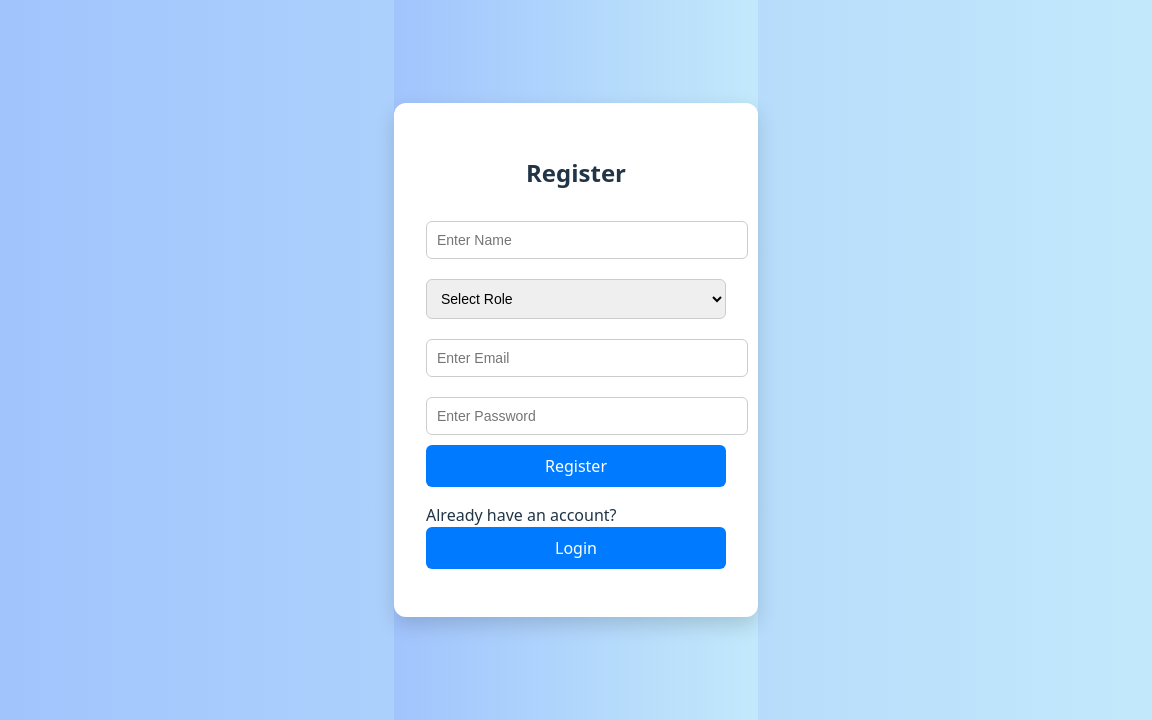
Register Component › submits form and shows success message
In the field with placeholder "Enter Name": (587, 240) [426,221,748,259], type "Bhavani"
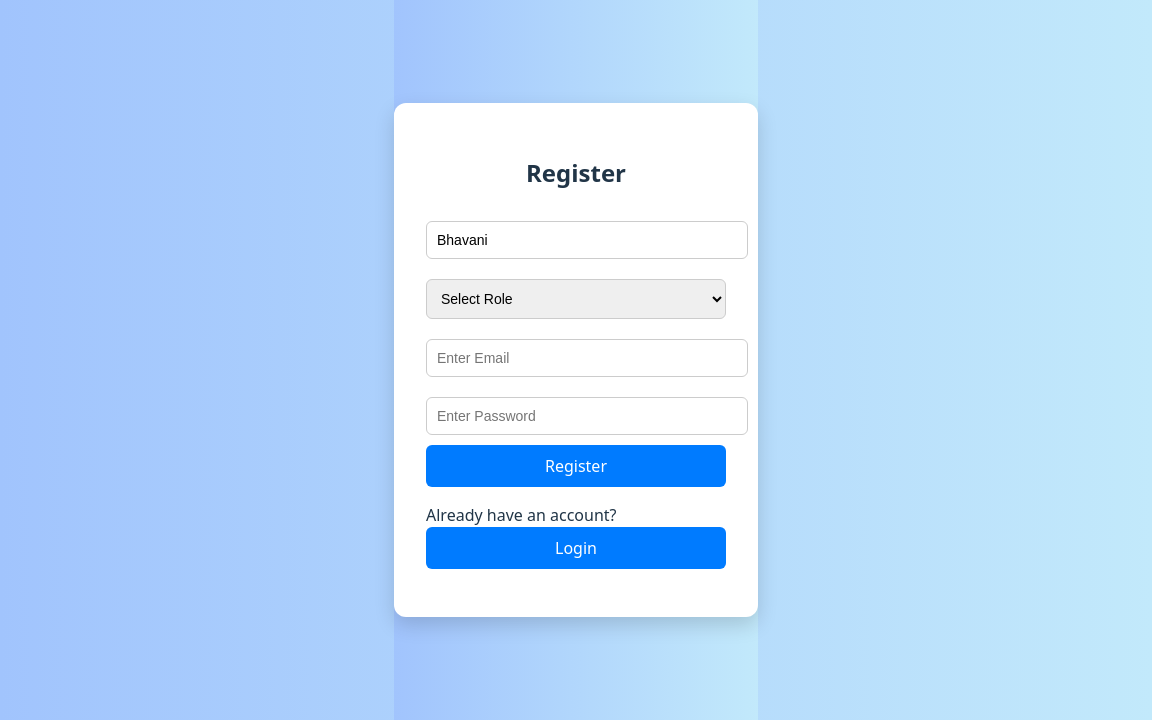
Select "student" in the dropdown: (576, 299) [426,279,726,319]
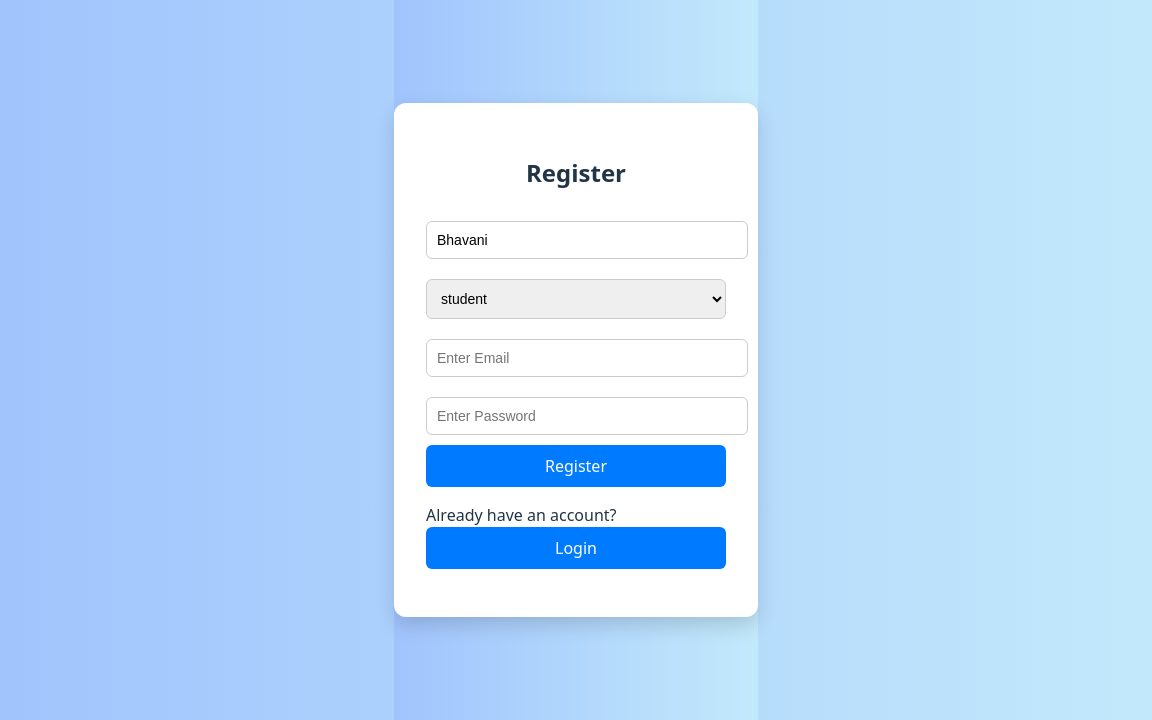
In the field with placeholder "Enter Email": (587, 358) [426,339,748,377], type "bhavani@example.com"
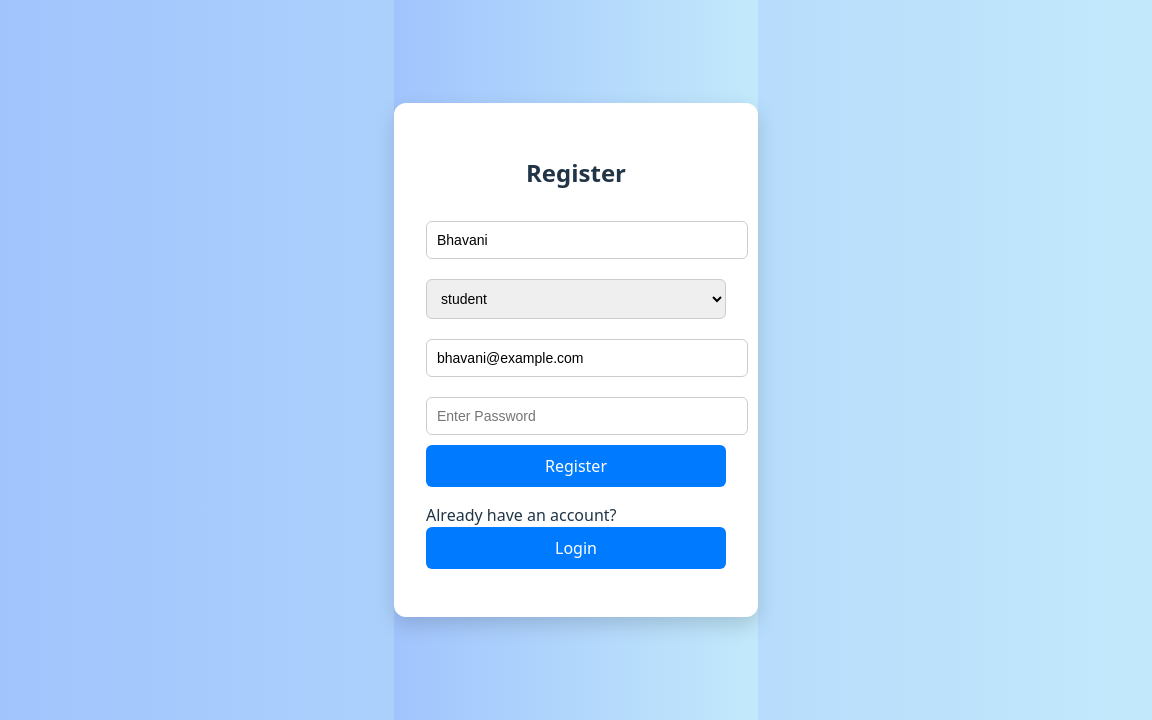
In the password field with placeholder "Enter Password": (587, 416) [426,397,748,435], type "securepass"
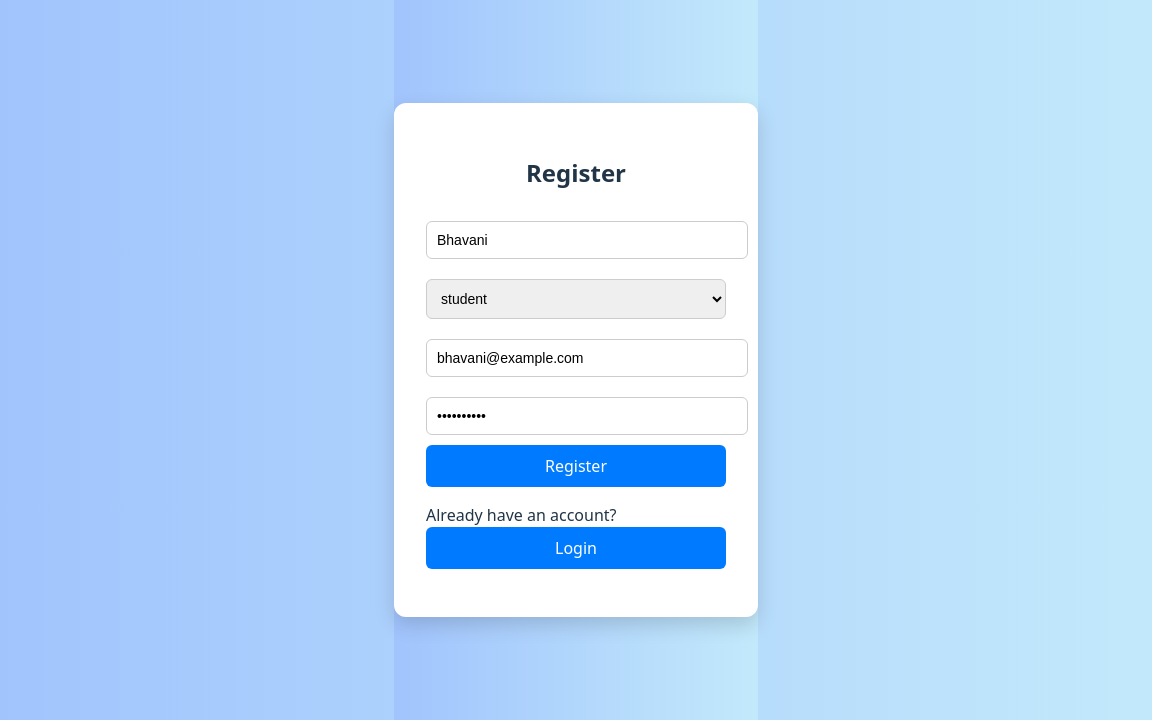
Click the button "Register": (576, 466) [426,445,726,487]
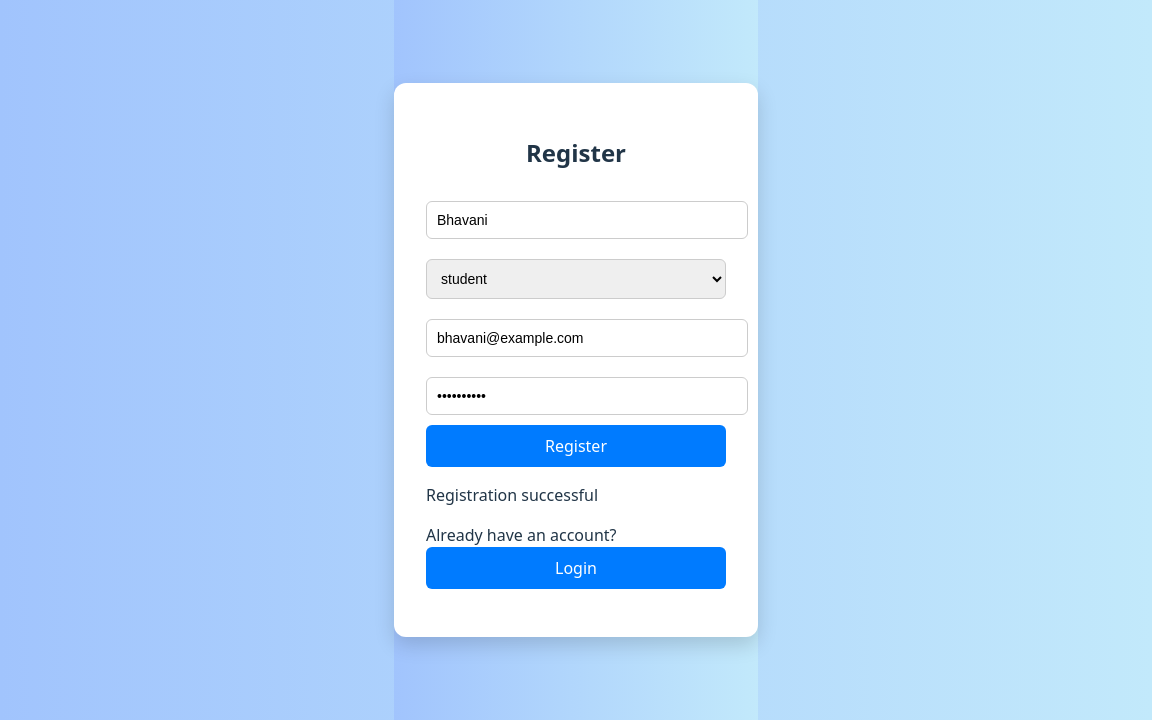
Expected: the text "Registration successful" is shown, [426,484,598,506]
